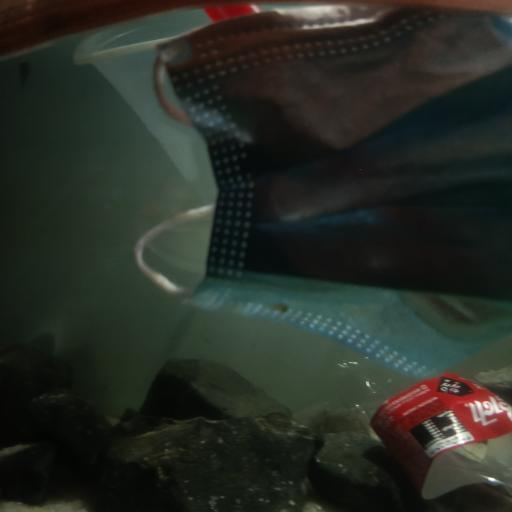mask: (149, 7, 512, 307), (127, 188, 512, 370)
plastic_bottle: (334, 343, 512, 512)
plastic_cup: (70, 16, 302, 196)
